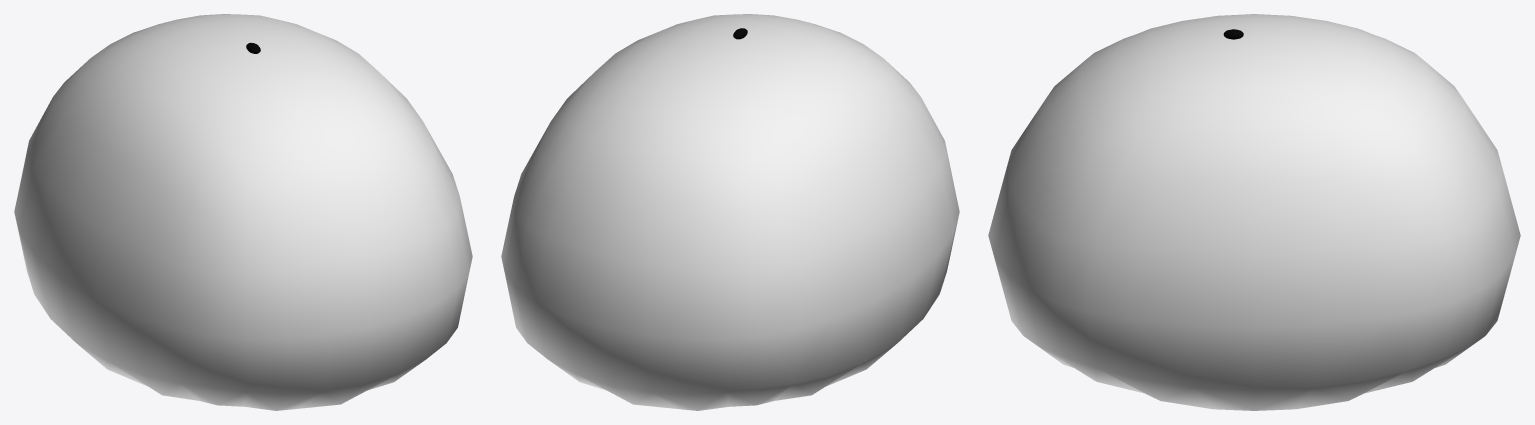
Rendered from ricecake.fbx.
The picture shows the model from 3 angles, left to right: view 1: azimuth 30°, elevation 25°; view 2: azimuth 150°, elevation 25°; view 3: azimuth 270°, elevation 25°; orthographic projection. The views are drawn at different scales.
Visible parts, largest first — view 1: Box001; view 2: Box001; view 3: Box001.
Part boxes in pixels (box(x1,y1,x2,y2)): Box001: box(14, 14, 472, 410); Box001: box(501, 14, 959, 410); Box001: box(988, 14, 1520, 410).
Size of the model in its own units: 8.15 by 6.85 by 9.91.
1 material, 1 textured.
